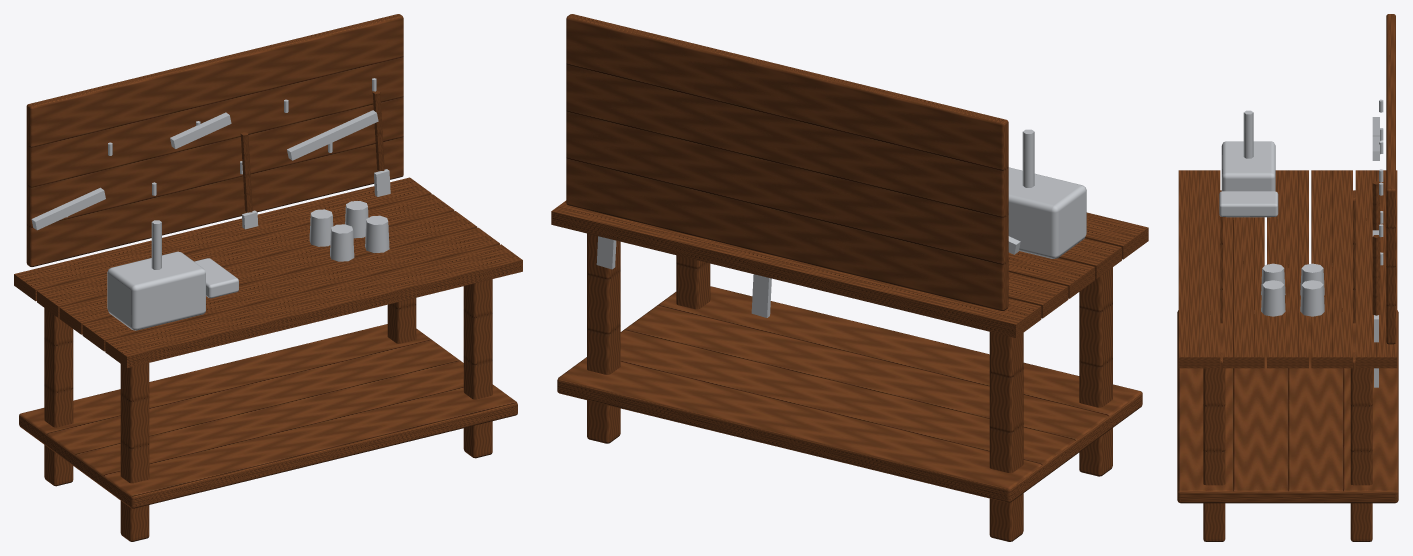
The model's file is workbench.glb.
3 renders of one model, left to right at view 1: azimuth 30°, elevation 25°; view 2: azimuth 150°, elevation 25°; view 3: azimuth 270°, elevation 25°, orthographic. The views are drawn at different scales.
Visible parts, largest first — view 1: shed-workbench; view 2: shed-workbench; view 3: shed-workbench.
Boxes of the visible parts, x1,y1,x2,y2 form: shed-workbench: [14, 14, 522, 541]; shed-workbench: [551, 14, 1148, 541]; shed-workbench: [1177, 14, 1398, 541].
Bounding box in the file's own units: 1.8 × 1.6 × 0.9001.
2 materials, 1 textured.
